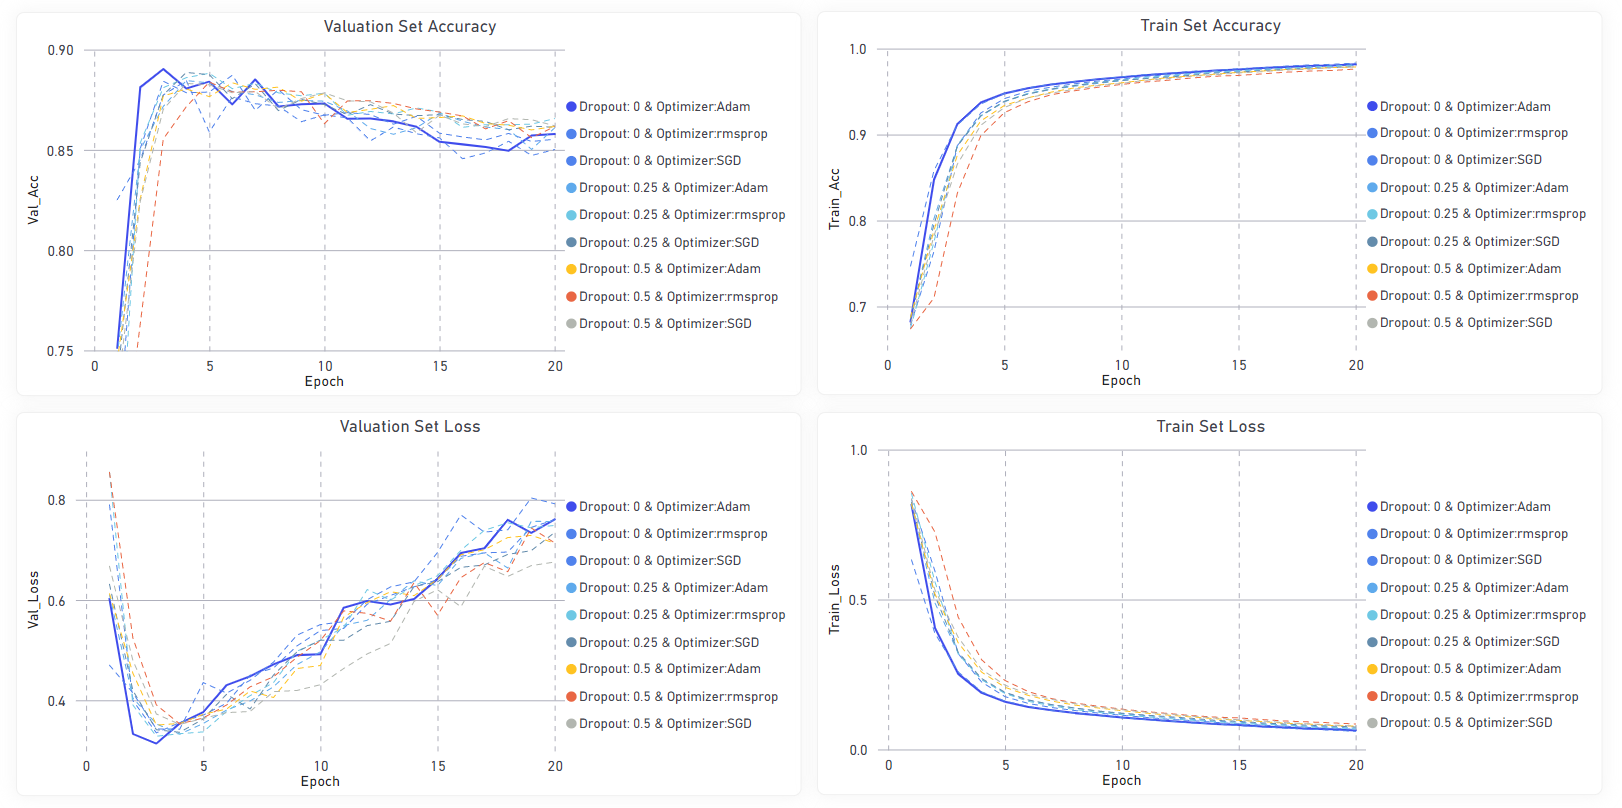

Layout of this report page (visuals, bound fields, positions):
{"tool":"powerbi","page":{"name":"LSTM_Classifier","canvas":[1600,800],"ordinal":1},"visuals":[{"type":"lineChart","title":"Valuation Set Accuracy","fields":{"Category":["lstm_final.Epoch"],"Series":["lstm_final.Params"],"Y":["Sum(lstm_final.Val_Acc)"]},"box":[17.7,16.7,769,374],"z":0},{"type":"lineChart","title":"Valuation Set Loss","fields":{"Category":["lstm_final.Epoch"],"Series":["lstm_final.Params"],"Y":["Sum(lstm_final.Val_Loss)"]},"box":[814.8,16.7,769,374],"z":1000},{"type":"lineChart","title":"Train Set Accuracy","fields":{"Category":["lstm_final.Epoch"],"Series":["lstm_final.Params"],"Y":["Sum(lstm_final.Train_Acc)"]},"box":[17.7,411.3,769,374],"z":2000},{"type":"lineChart","title":"Train Set Loss","fields":{"Category":["lstm_final.Epoch"],"Series":["lstm_final.Params"],"Y":["Sum(lstm_final.Train_Loss)"]},"box":[814.8,411.3,769,374],"z":3000}]}

Visuals, with their boxes in screenshot pixels (x1, y1, x2, y2), scaled from the page's 1600x800 canvas onto the 1622x808 screenshot:
"Valuation Set Accuracy" lineChart: box(18, 17, 798, 395)
"Valuation Set Loss" lineChart: box(826, 17, 1606, 395)
"Train Set Accuracy" lineChart: box(18, 415, 798, 793)
"Train Set Loss" lineChart: box(826, 415, 1606, 793)
